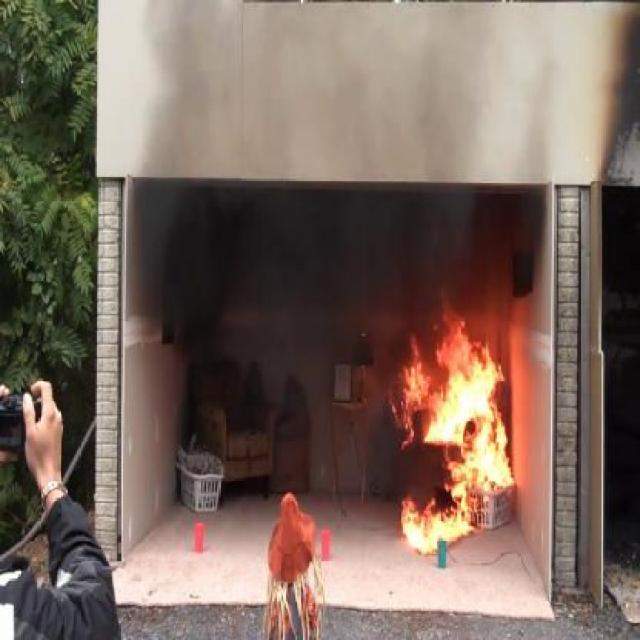fire: (363, 304, 522, 550)
smoke: (175, 190, 358, 496)
